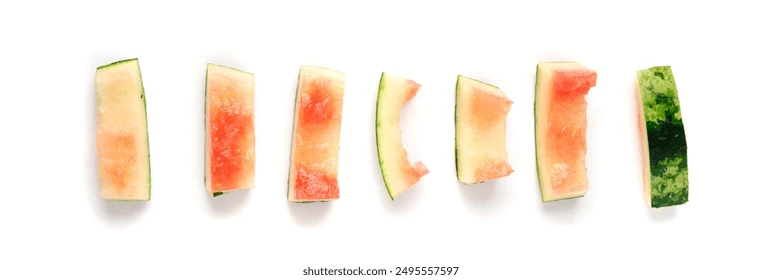food_waste: (629, 69, 714, 220), (88, 57, 156, 208), (531, 59, 599, 208), (447, 70, 520, 204), (283, 54, 343, 211), (199, 55, 255, 206), (377, 69, 428, 208)
